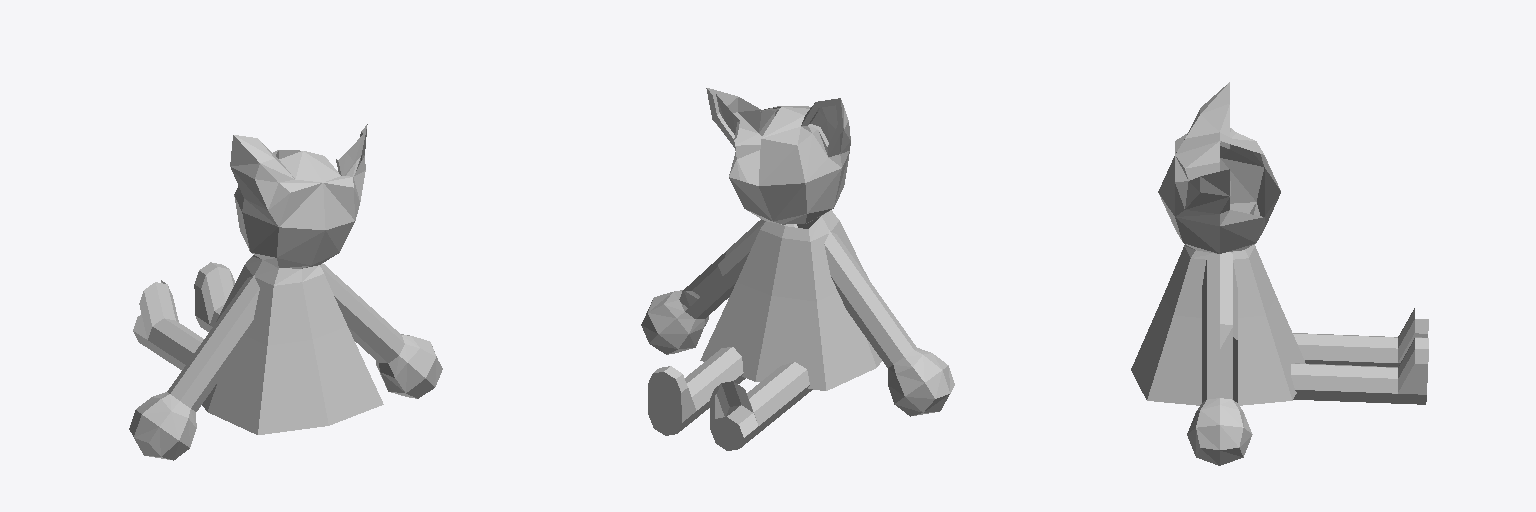
The model's file is gamemodel.obj.
3 renders of one model, left to right at view 1: azimuth 30°, elevation 25°; view 2: azimuth 150°, elevation 25°; view 3: azimuth 270°, elevation 25°, orthographic.
Parts seen in each view (by area): view 1: Cube.003; view 2: Cube.003; view 3: Cube.003.
Part boxes in pixels (bbox=[...]): Cube.003: bbox=[129, 124, 442, 460]; Cube.003: bbox=[641, 88, 954, 450]; Cube.003: bbox=[1131, 82, 1428, 465].
Size of the model in its own units: 4.79 by 4.54 by 4.06.